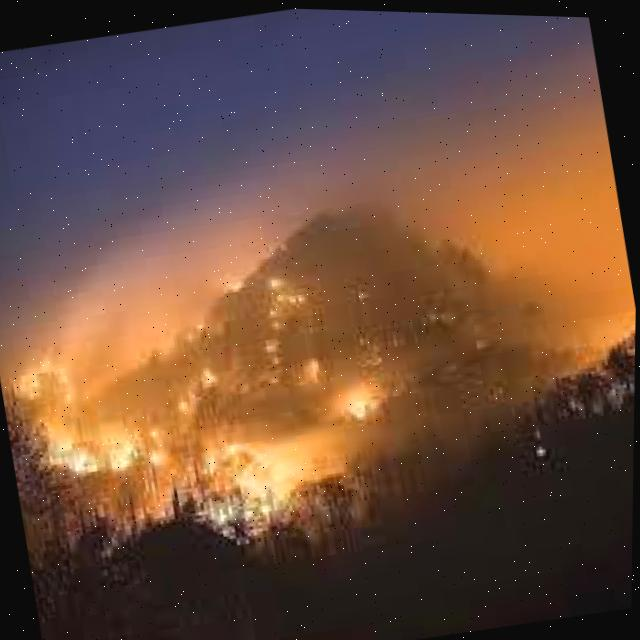smoke: (0, 7, 637, 381)
